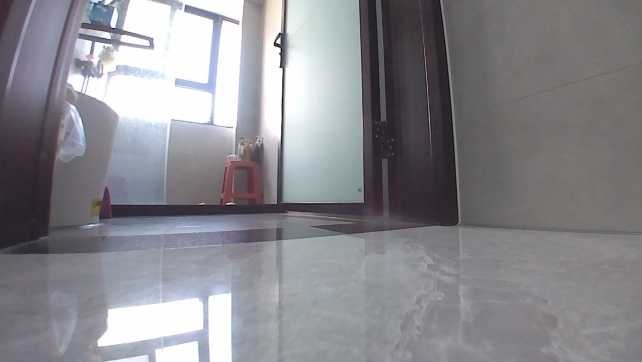door_anno: (260, 0, 385, 217)
door_sill: (16, 214, 428, 254)
plastic_stool: (216, 157, 262, 203)
toilet: (48, 89, 132, 226)
